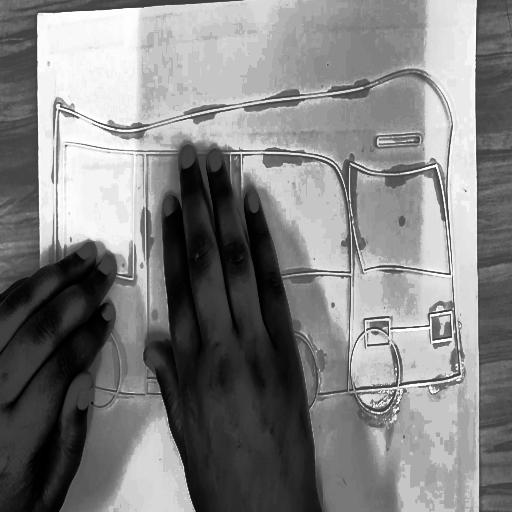bus: (48, 60, 471, 430)
top_left: (35, 10, 42, 23)
